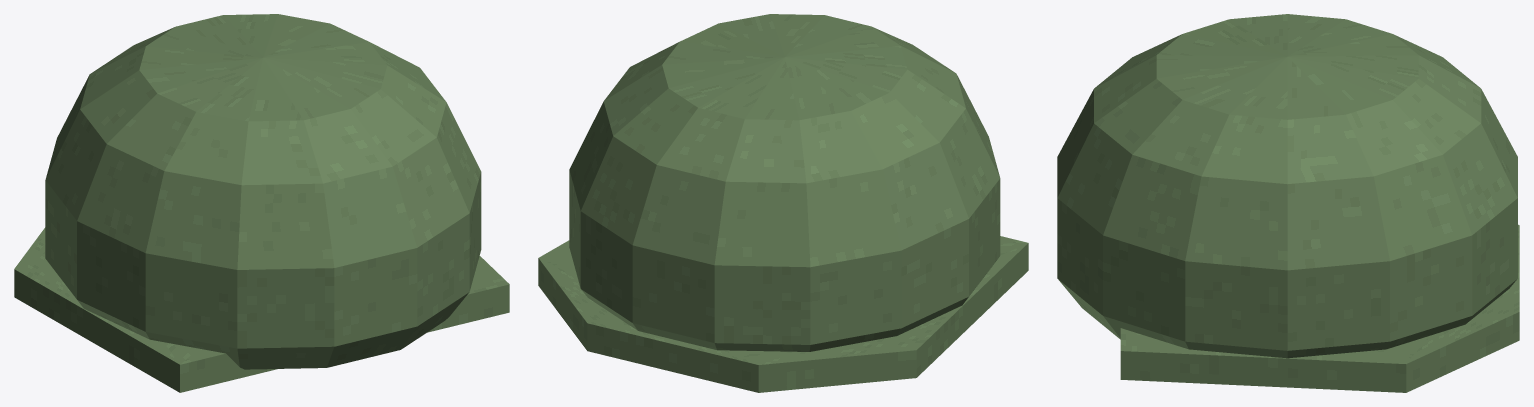
The model's file is helmet_army.glb.
3 views of the same model, side by side, from view 1: azimuth 30°, elevation 25°; view 2: azimuth 150°, elevation 25°; view 3: azimuth 270°, elevation 25° (orthographic). The views are drawn at different scales.
Parts seen in each view (by area): view 1: block_helmet shell, block_helmet rim; view 2: block_helmet shell, block_helmet rim; view 3: block_helmet shell, block_helmet rim.
Boxes of the visible parts, x1,y1,x2,y2 form: block_helmet shell: (45,14,481,369); block_helmet rim: (14,227,509,392); block_helmet shell: (569,14,1000,351); block_helmet rim: (538,236,1028,392); block_helmet shell: (1057,14,1517,358); block_helmet rim: (1120,224,1519,392).
Size of the model in its own units: 0.2738 by 0.161 by 0.28.
Materials: 1 (1 with a texture image).
